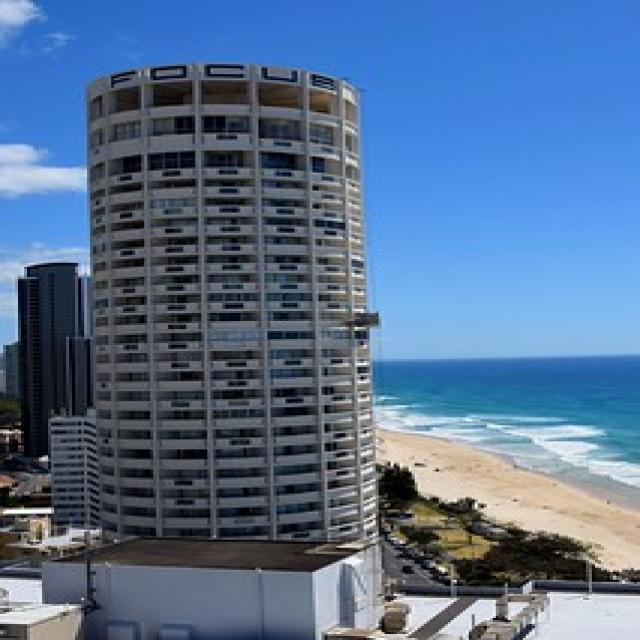Normal_building: (68, 61, 401, 637)
